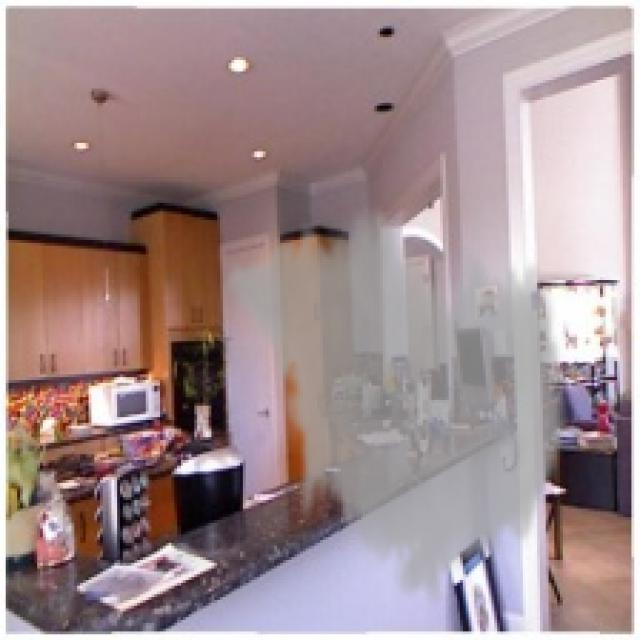Smoke: (223, 194, 572, 612)
